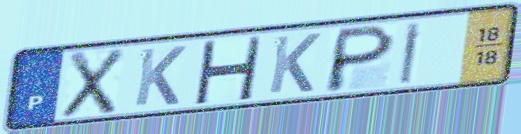H: (190, 35, 265, 105)
I: (396, 20, 425, 87)
K: (265, 31, 324, 96), (131, 44, 189, 109)
P: (320, 22, 399, 94)
X: (58, 45, 128, 121)
